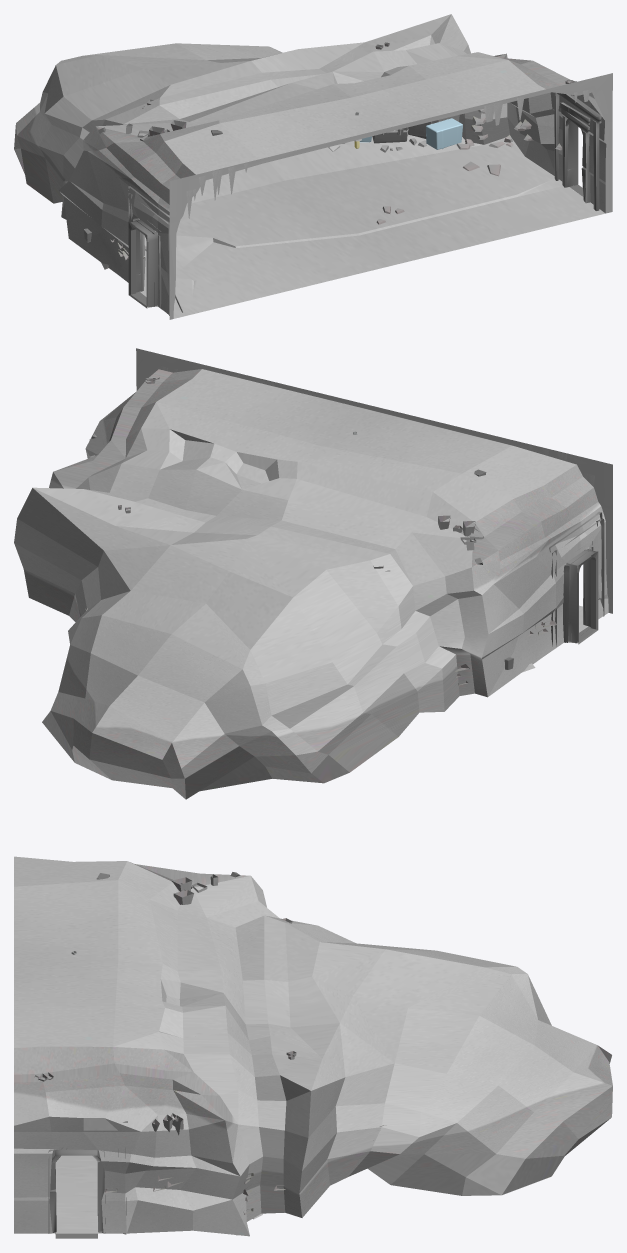
File: MSH_QuestCave_L3_R2_optimized.fbx
3 views of the same model, one above another, from view 1: azimuth 30°, elevation 25°; view 2: azimuth 150°, elevation 25°; view 3: azimuth 270°, elevation 25° (orthographic). The views are drawn at different scales.
Parts seen in each view (by area): view 1: lightmap5, lightmap0, lightmap1; view 2: lightmap5, lightmap0; view 3: lightmap5, lightmap0.
Boxes of the visible parts, bbox=[...] form: lightmap5: bbox=[14, 14, 612, 319]; lightmap0: bbox=[83, 42, 601, 315]; lightmap1: bbox=[359, 118, 462, 149]; lightmap5: bbox=[14, 348, 612, 799]; lightmap0: bbox=[83, 377, 604, 685]; lightmap5: bbox=[14, 856, 612, 1236]; lightmap0: bbox=[34, 872, 383, 1238].
Size of the model in its own units: 20.65 by 7.73 by 20.67.
